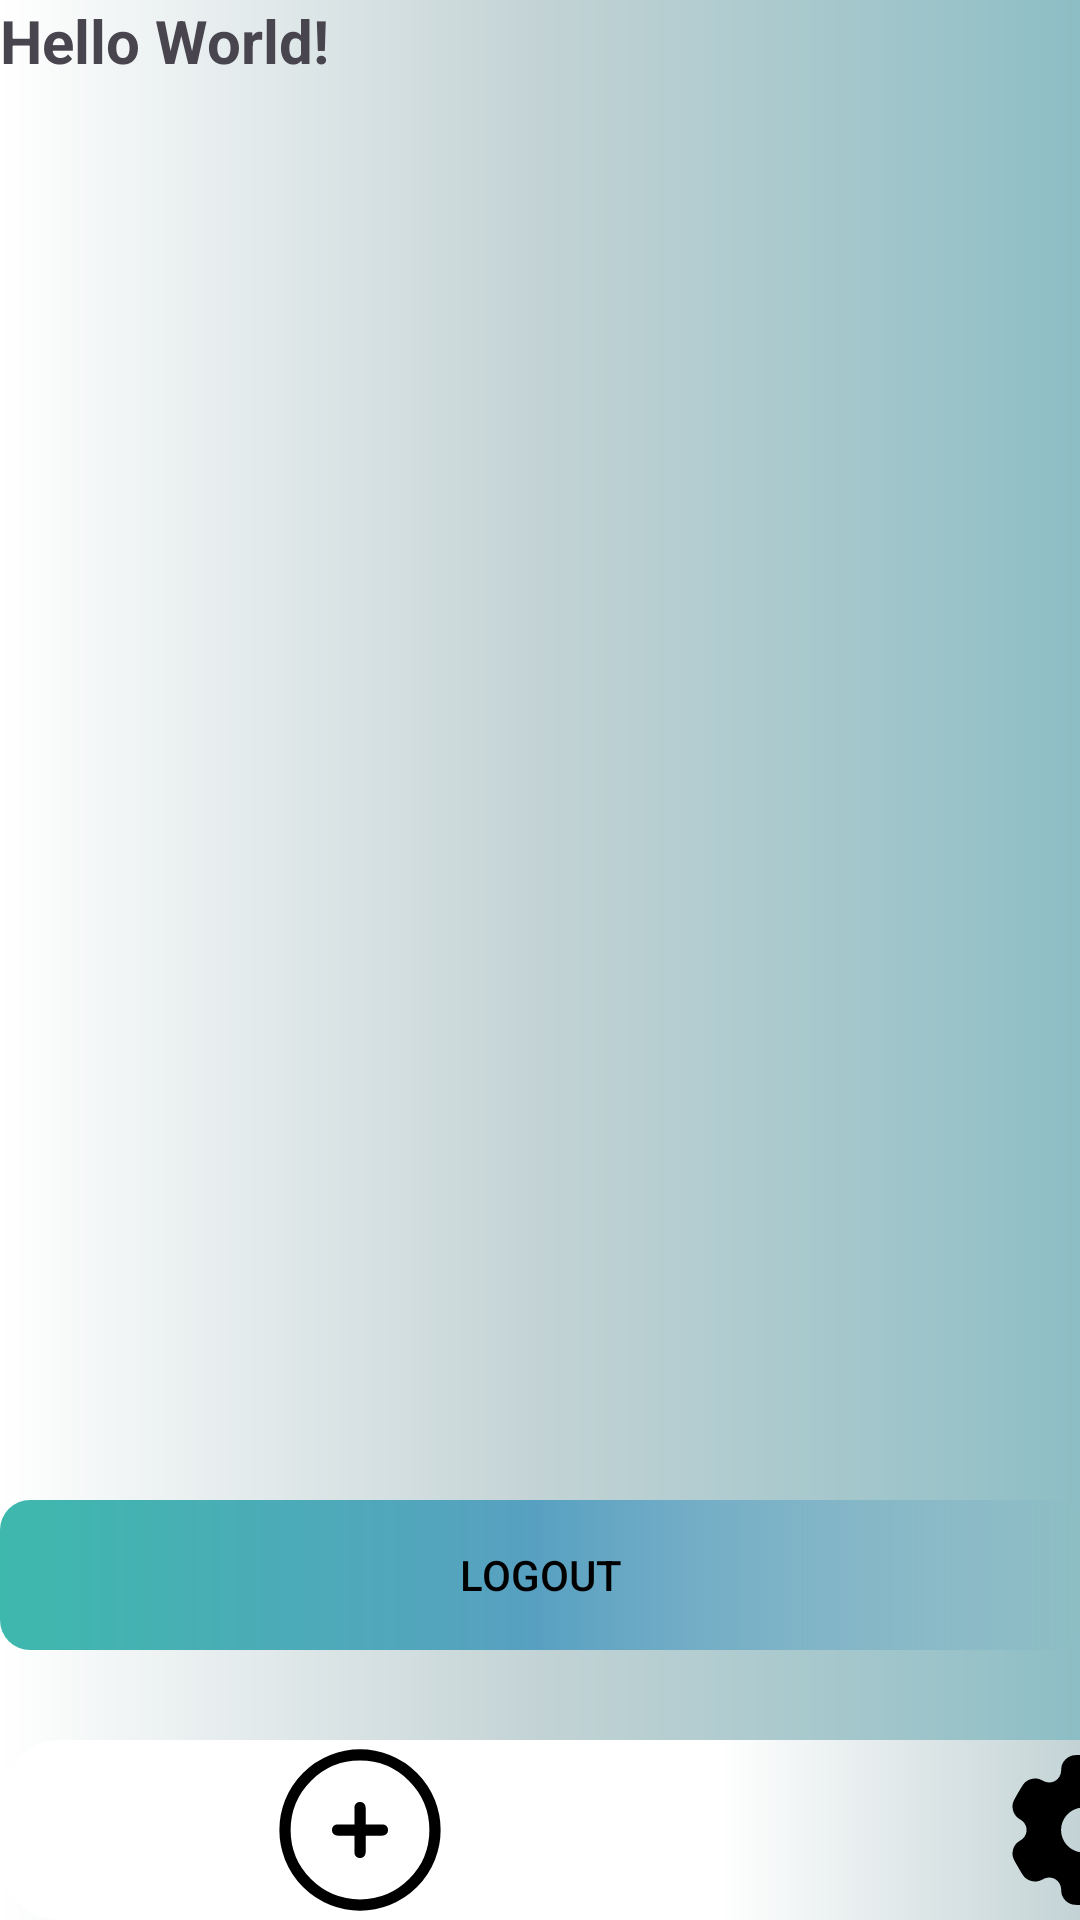

Icon click points for this 1080 × 1920 phone screenshot, format [x,y]:
add: [360,1830]
